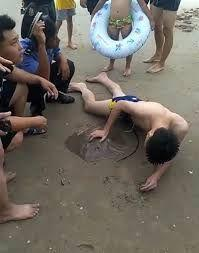Fall-Detected: (67, 63, 188, 193)
